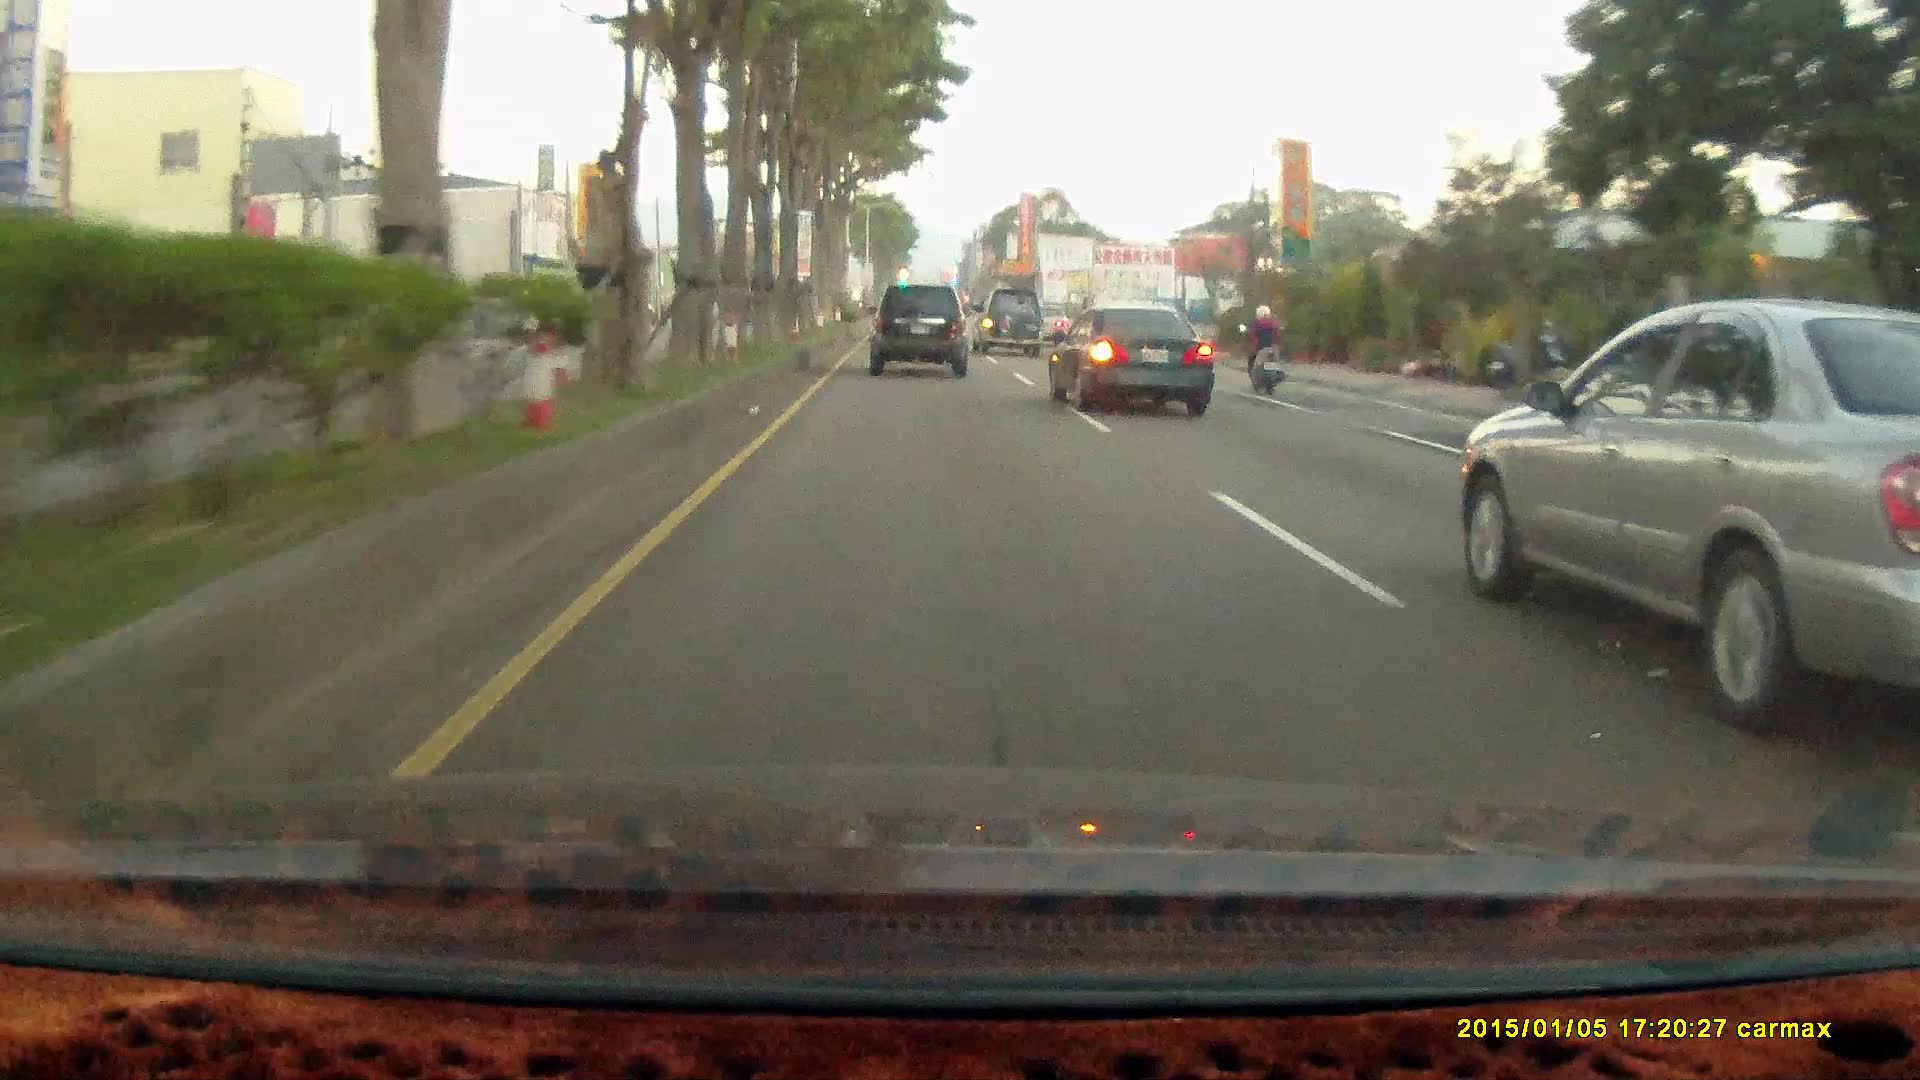rider: (1232, 294, 1296, 405), (1235, 300, 1288, 396)
vehicle: (1456, 297, 1915, 733), (1045, 302, 1219, 415), (1046, 302, 1214, 416), (864, 281, 978, 380), (864, 285, 965, 377), (976, 285, 1047, 358), (970, 287, 1042, 355)
